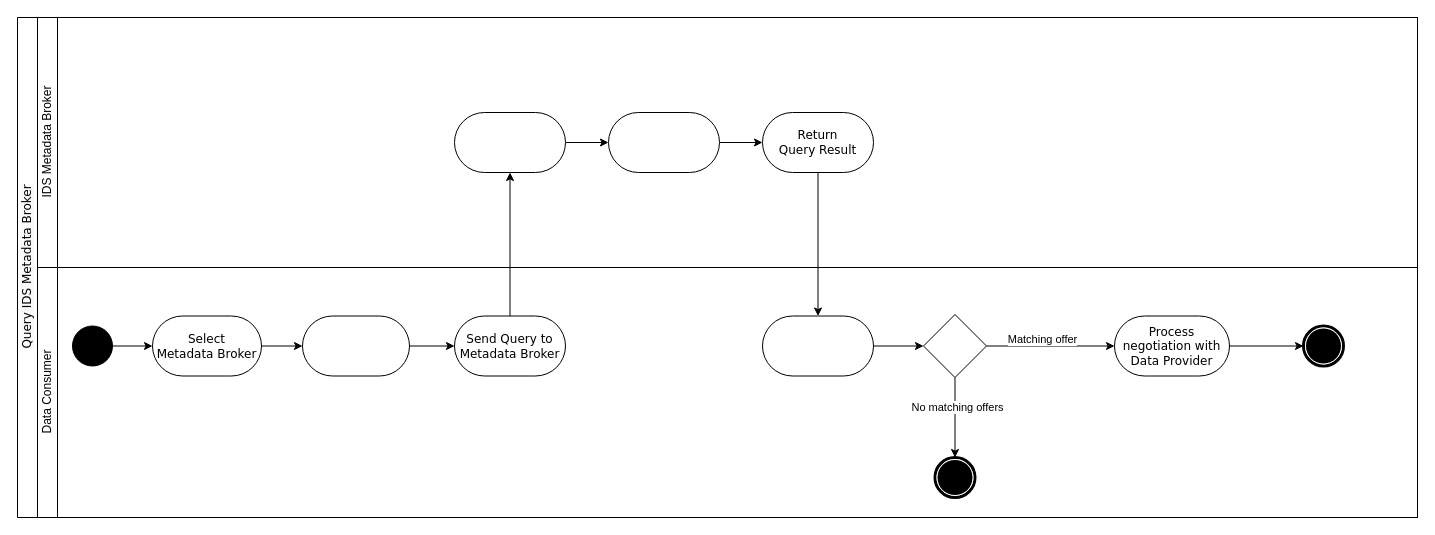
Some shapes in this 1435 by 535 pixel diagram are drawn without their labels. The centre of each missing label's shape, as x and y in pixels:
"Determine Metadata Broker Query Capabilities" goes at point 356,345.
"Process Query" goes at point 664,142.
"Receive Query" goes at point 510,142.
"Receive Query Result" goes at point 818,345.
